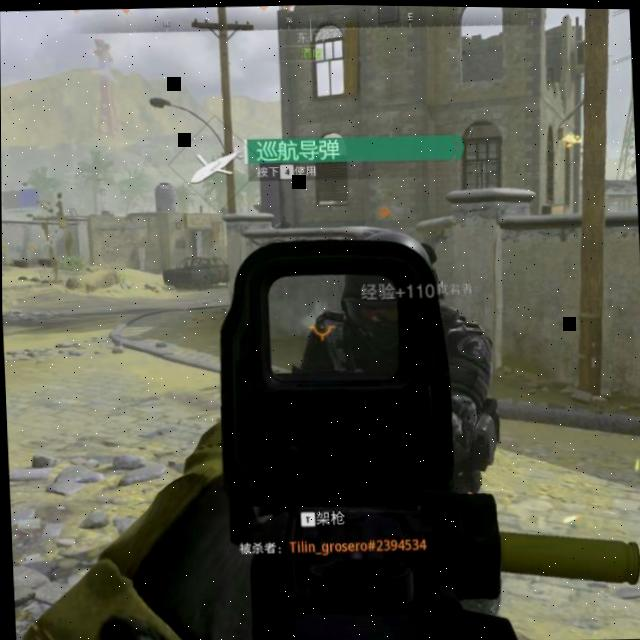MW2_body: (307, 201, 489, 382)
